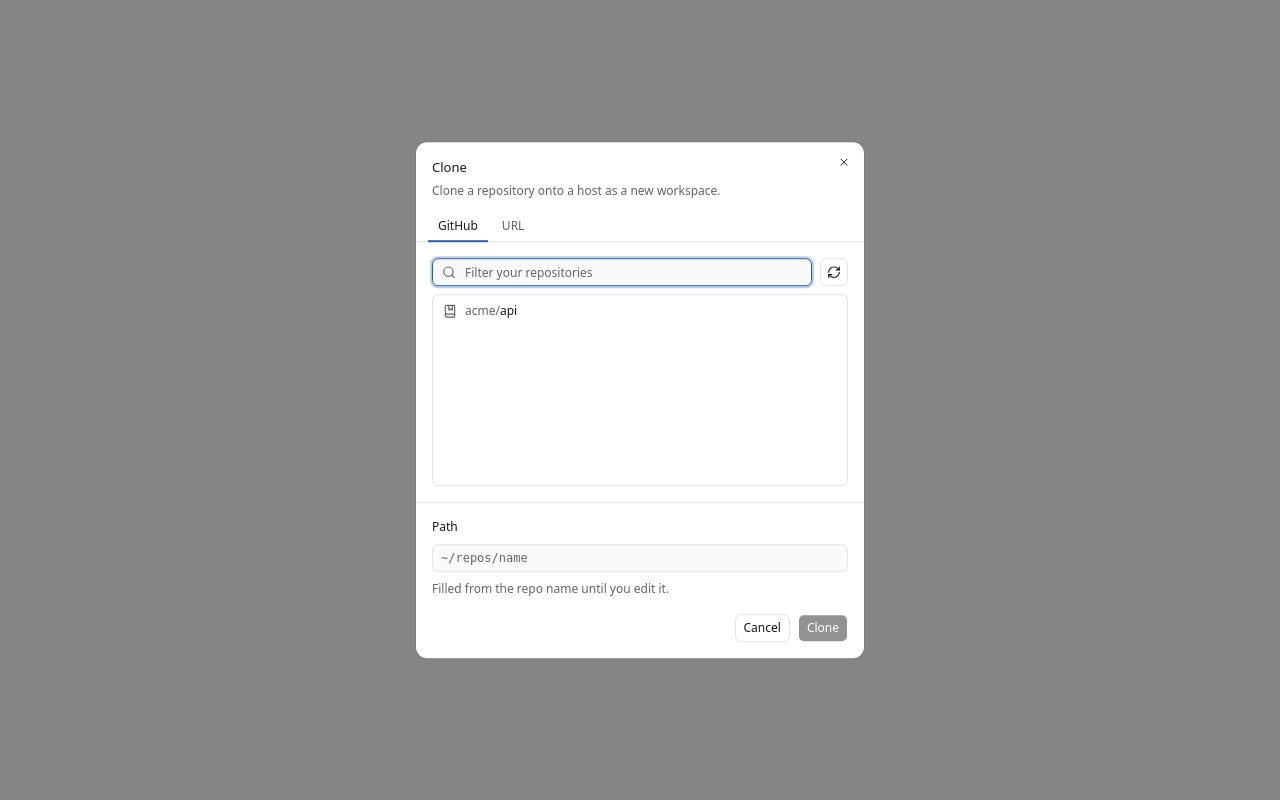
Test case: CloneDialog repo list › switching to URL clears a picked repo
Click the option "acme/api". click: [480, 311]
box: [443, 302, 517, 319]
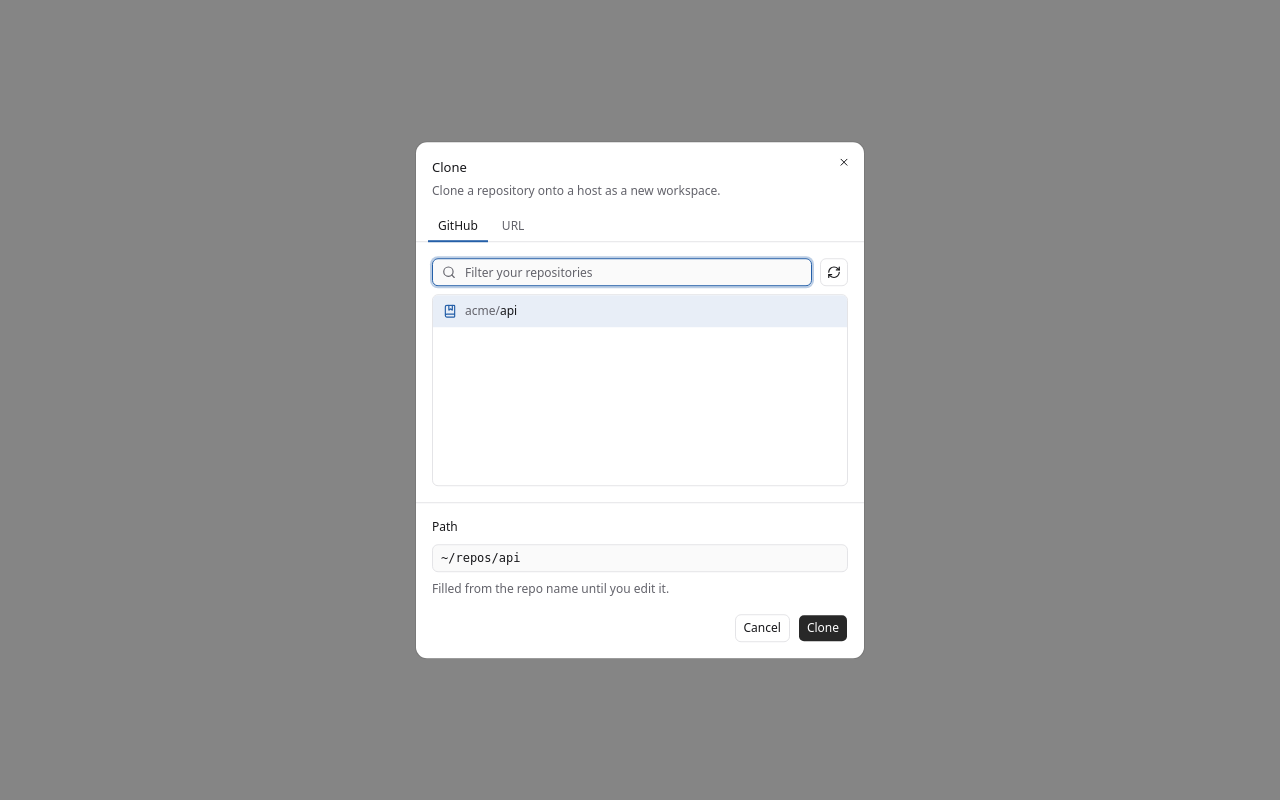
Click the tab "URL". click: [513, 227]
box: [492, 212, 534, 242]
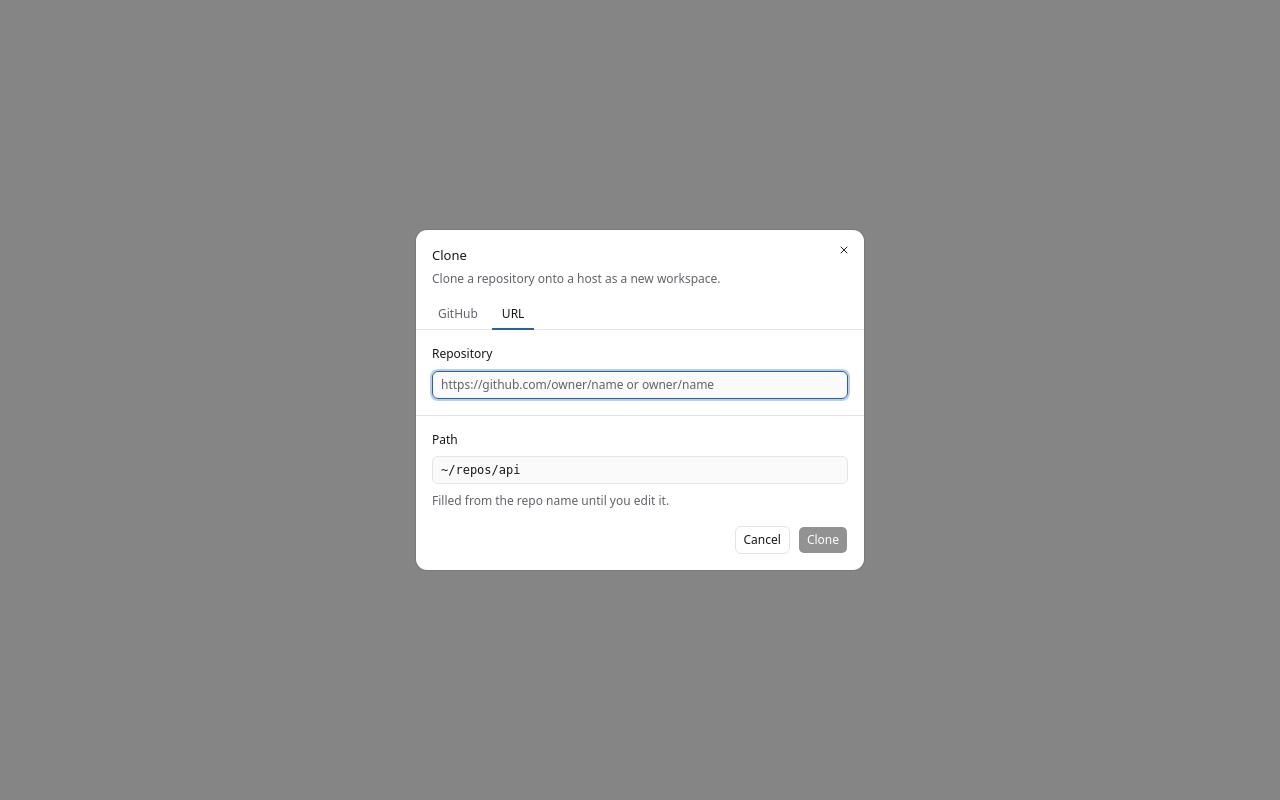
expect the field labelled "Repository" is empty: met, box [432, 370, 848, 398]
expect the button "Clone" is disabled: met, box [798, 526, 848, 554]
